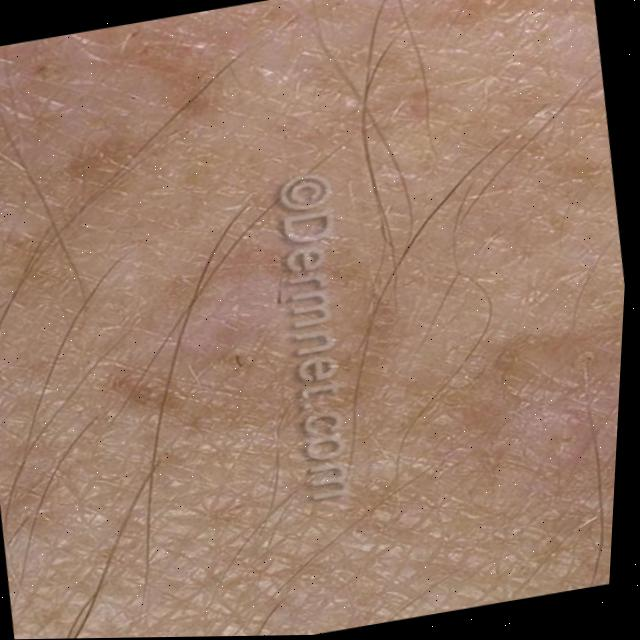Eczema: (97, 211, 403, 468)
